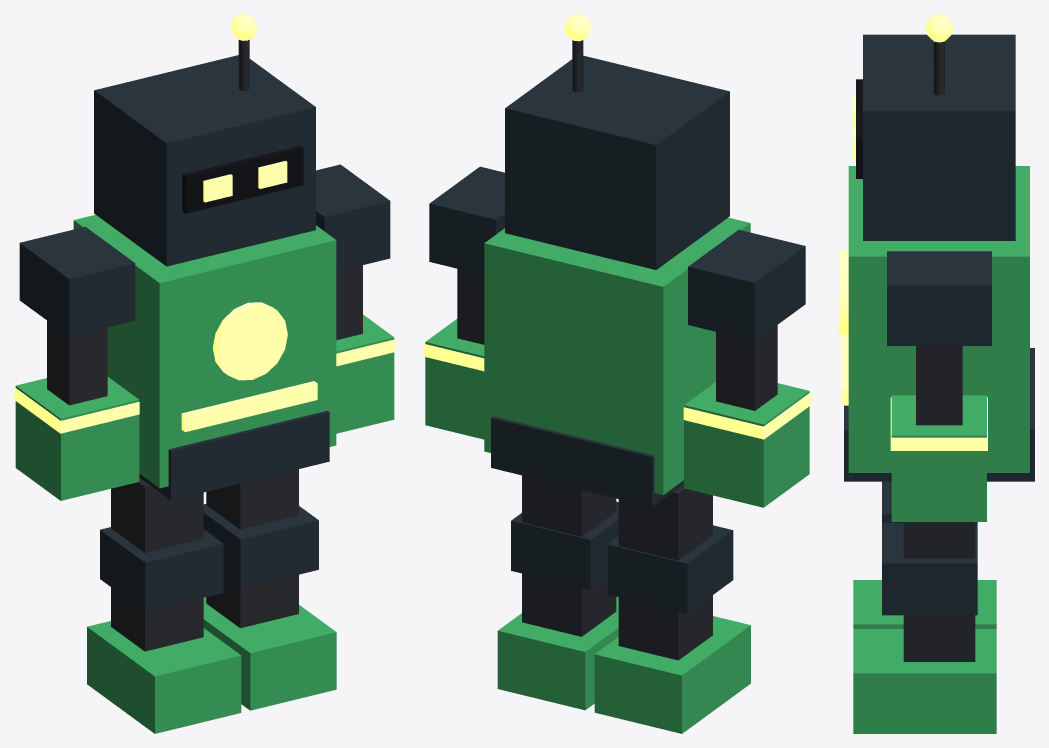
File: robot_rookie_green.glb
3 views of the same model, side by side, from view 1: azimuth 30°, elevation 25°; view 2: azimuth 150°, elevation 25°; view 3: azimuth 270°, elevation 25° (orthographic). The views are drawn at different scales.
Parts seen in each view (by area): view 1: torso, head, leg_R, arm_R, leg_L, arm_L; view 2: torso, head, leg_R, arm_R, leg_L, arm_L; view 3: head, torso, leg_L, arm_L, leg_R.
Boxes of the visible parts, box(x1,y1,x2,y2) form: torso: box(73, 214, 336, 500); head: box(94, 14, 315, 266); leg_R: box(87, 477, 241, 733); arm_R: box(14, 226, 139, 500); leg_L: box(203, 469, 336, 710); arm_L: box(316, 164, 395, 433); torso: box(484, 217, 750, 506); head: box(505, 14, 729, 269); leg_R: box(594, 484, 750, 733); arm_R: box(683, 230, 810, 507); leg_L: box(497, 475, 618, 710); arm_L: box(424, 166, 504, 439); head: box(852, 14, 1015, 240); torso: box(839, 166, 1034, 481); leg_L: box(853, 522, 996, 733); arm_L: box(887, 251, 991, 521); leg_R: box(853, 481, 996, 628).
Size of the model in its own units: 0.854 by 1.6 by 0.41.
